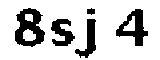4: (114, 5, 156, 51)
8: (12, 4, 48, 49)
j: (75, 6, 102, 60)
s: (50, 14, 79, 48)
